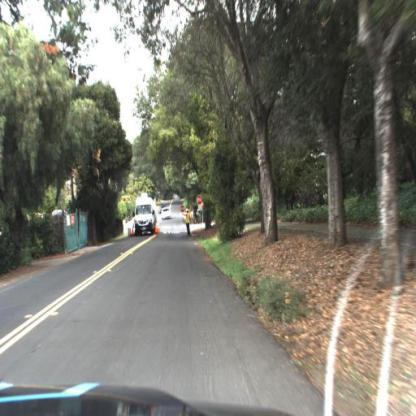car: (133, 191, 160, 236), (162, 207, 174, 222)
pedestrian: (179, 203, 193, 239)
